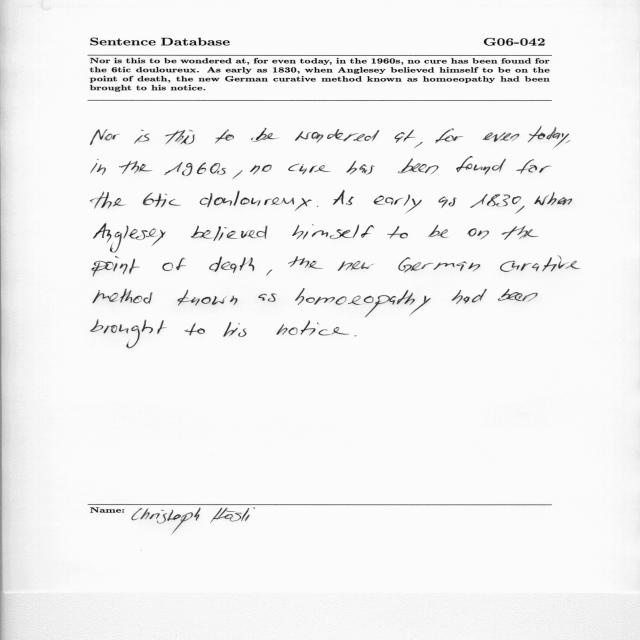word: (295, 289, 431, 317), (200, 191, 312, 211), (91, 320, 166, 349), (94, 224, 167, 253), (398, 257, 480, 273), (500, 256, 581, 272), (292, 225, 374, 240), (191, 225, 267, 241), (295, 129, 379, 143), (470, 194, 525, 214), (277, 321, 349, 336), (92, 256, 139, 277), (178, 290, 238, 306), (456, 156, 506, 175), (373, 195, 422, 214), (528, 126, 569, 148), (93, 289, 153, 304), (164, 162, 226, 176), (209, 256, 254, 273), (398, 158, 439, 174), (90, 192, 125, 209), (501, 225, 539, 240), (451, 289, 487, 304), (143, 193, 181, 207), (517, 159, 552, 174), (498, 289, 538, 302), (90, 129, 120, 145), (288, 164, 331, 175), (288, 256, 323, 269), (119, 161, 152, 174), (165, 130, 195, 144), (435, 129, 463, 144), (346, 161, 375, 175), (251, 128, 279, 142), (483, 132, 520, 142), (338, 261, 374, 271), (547, 192, 572, 206), (224, 322, 247, 337), (333, 190, 354, 205), (163, 258, 187, 271), (395, 129, 415, 143), (215, 130, 234, 144), (428, 225, 448, 238), (185, 323, 205, 336), (387, 226, 408, 238), (468, 228, 489, 240), (91, 159, 106, 175), (135, 129, 150, 144), (250, 165, 272, 175), (438, 197, 457, 208), (258, 293, 277, 302), (535, 195, 550, 205), (233, 170, 243, 179), (414, 142, 423, 148), (267, 269, 273, 276), (565, 141, 570, 144), (355, 335, 357, 336), (317, 206, 318, 207)
